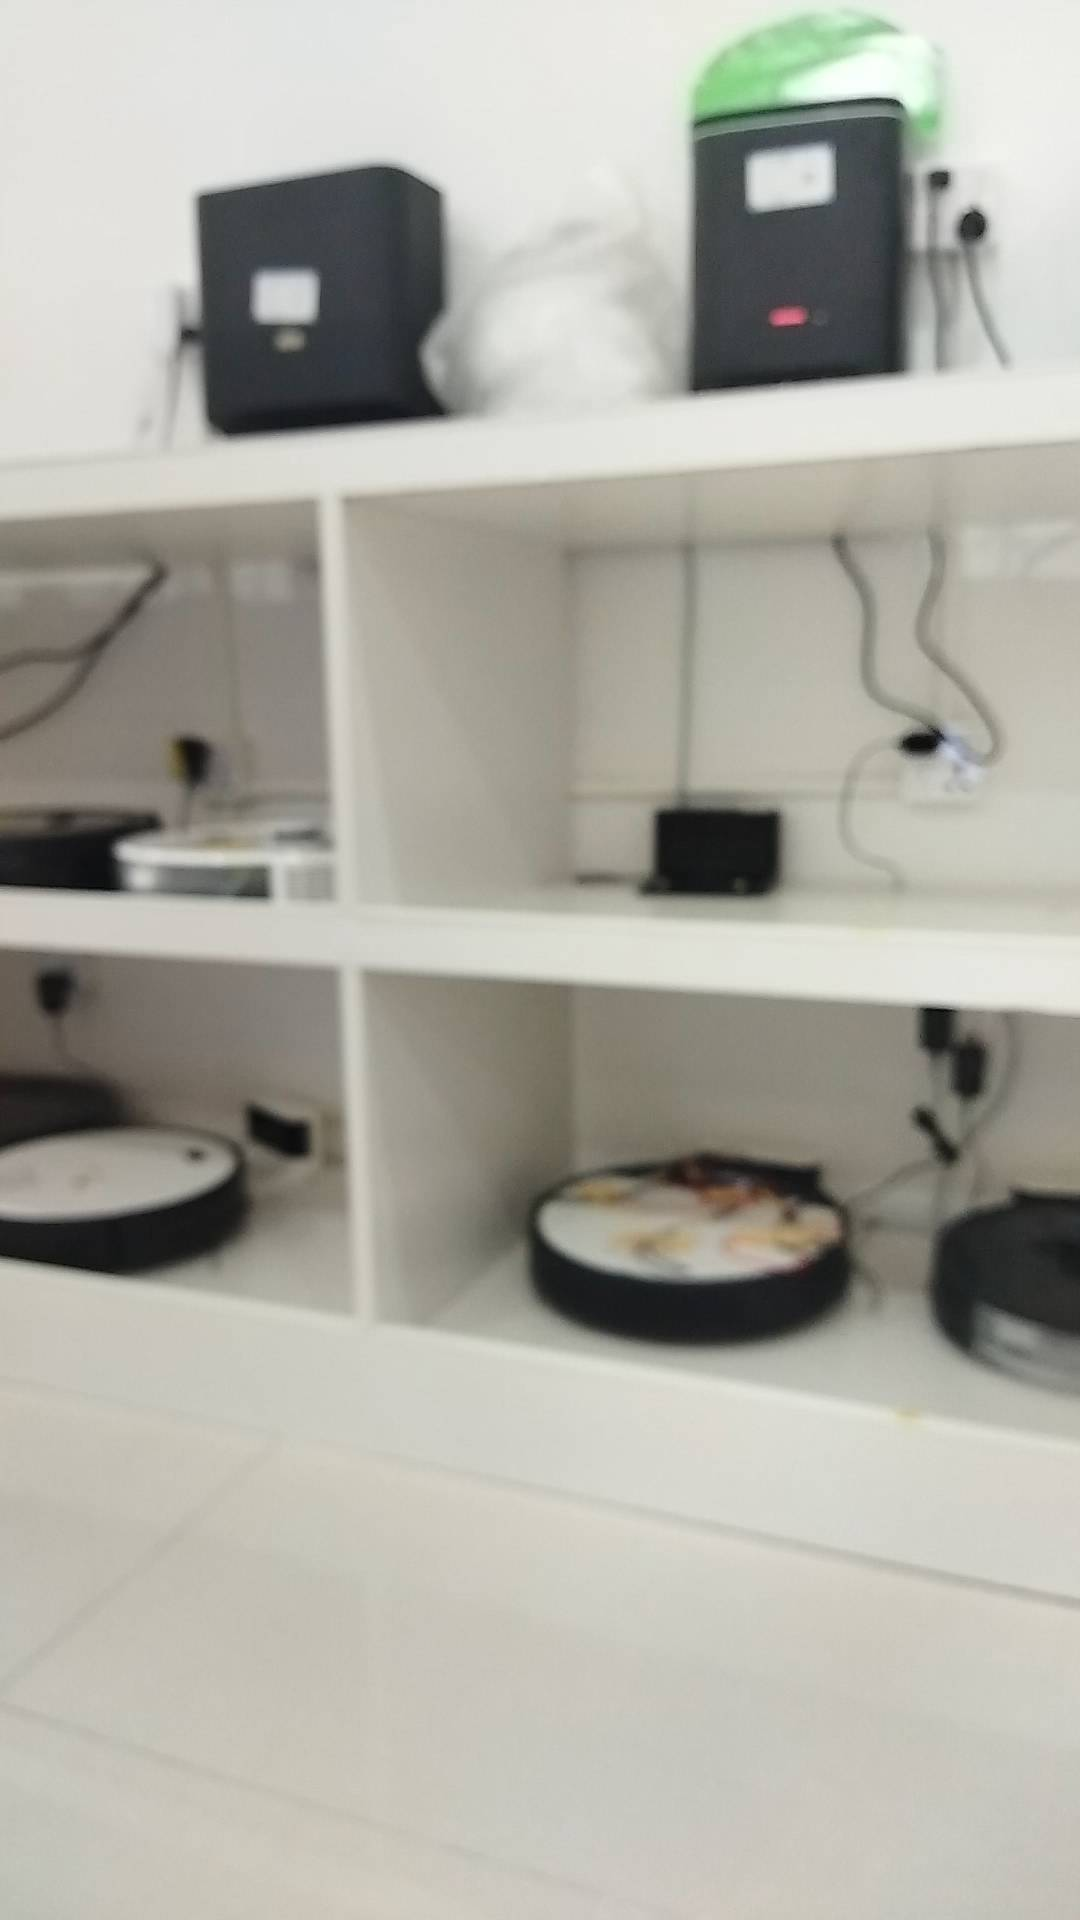dust collecting barrel: (196, 165, 454, 433), (691, 100, 909, 402)
recharge seat: (641, 804, 789, 902), (202, 1095, 334, 1200)
